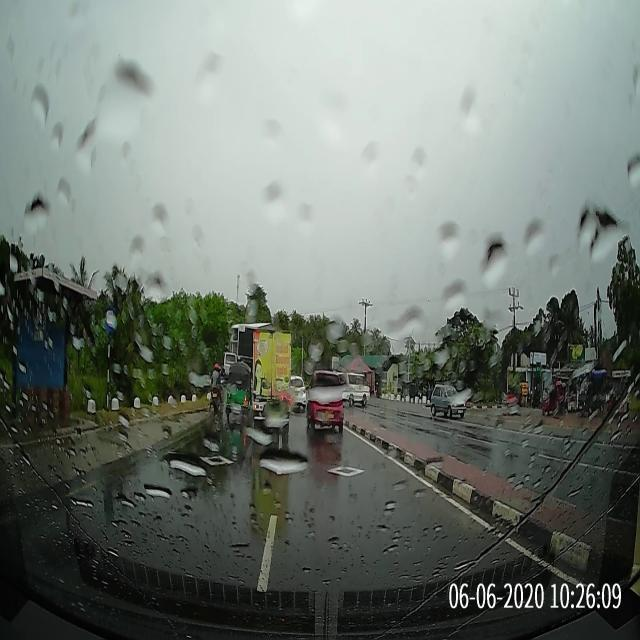diamond: (274, 441, 430, 491)
